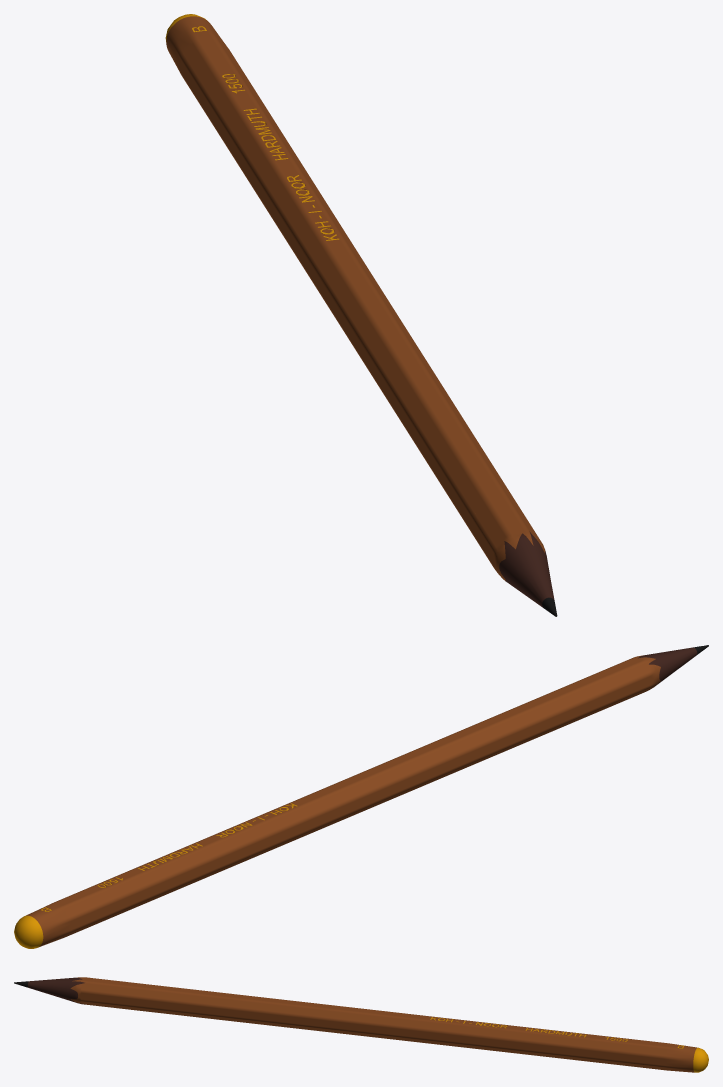
Rendered from Pencil.FBX.
3 views of the same model, one above another, from view 1: azimuth 30°, elevation 25°; view 2: azimuth 150°, elevation 25°; view 3: azimuth 270°, elevation 25° (orthographic). The views are drawn at different scales.
Parts seen in each view (by area): view 1: object_172, object_173; view 2: object_172, object_173, object_171; view 3: object_172, object_173, object_171.
Part boxes in pixels (box(x1,y1,x2,y2)): object_172: box(166, 16, 545, 580); object_173: box(499, 531, 554, 607); object_172: box(26, 655, 660, 946); object_173: box(638, 647, 697, 689); object_171: box(14, 915, 43, 948); object_172: box(70, 977, 696, 1072); object_173: box(28, 977, 84, 1004); object_171: box(693, 1047, 708, 1072).
Bounding box in the file's own units: 53.02 × 188 × 7.07.
